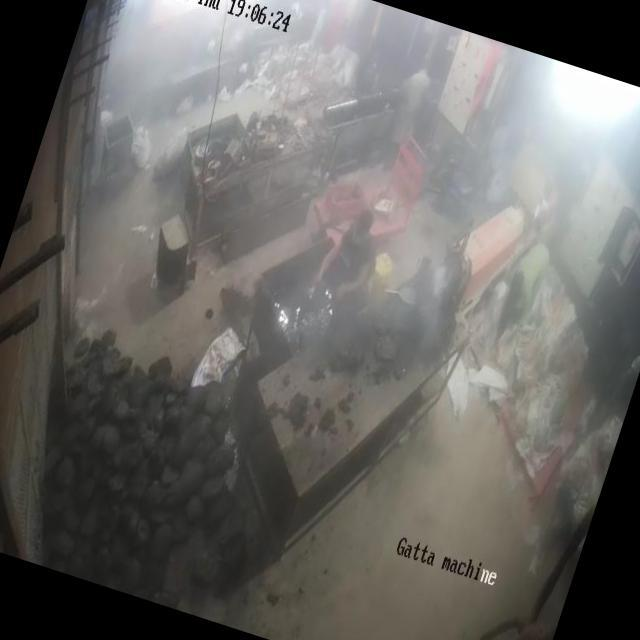person: (316, 206, 393, 318), (505, 239, 554, 321)
